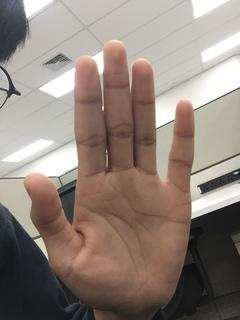hand: (22, 38, 198, 318)
